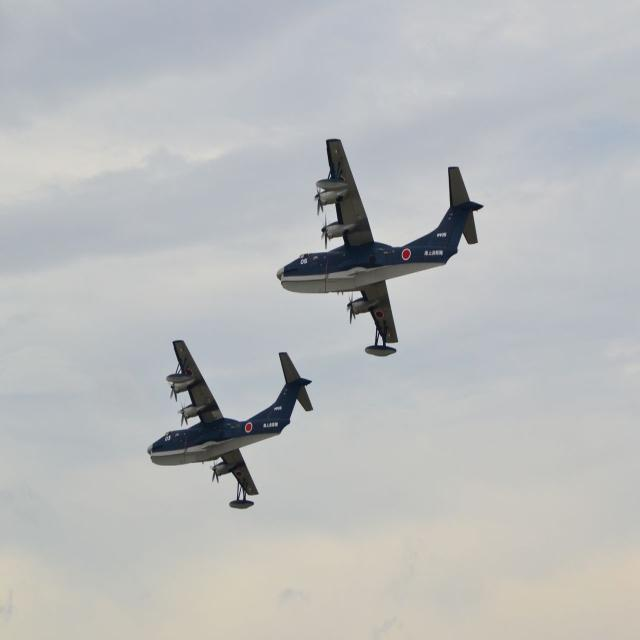MIL_Plane: (276, 138, 484, 357), (147, 339, 314, 510)
